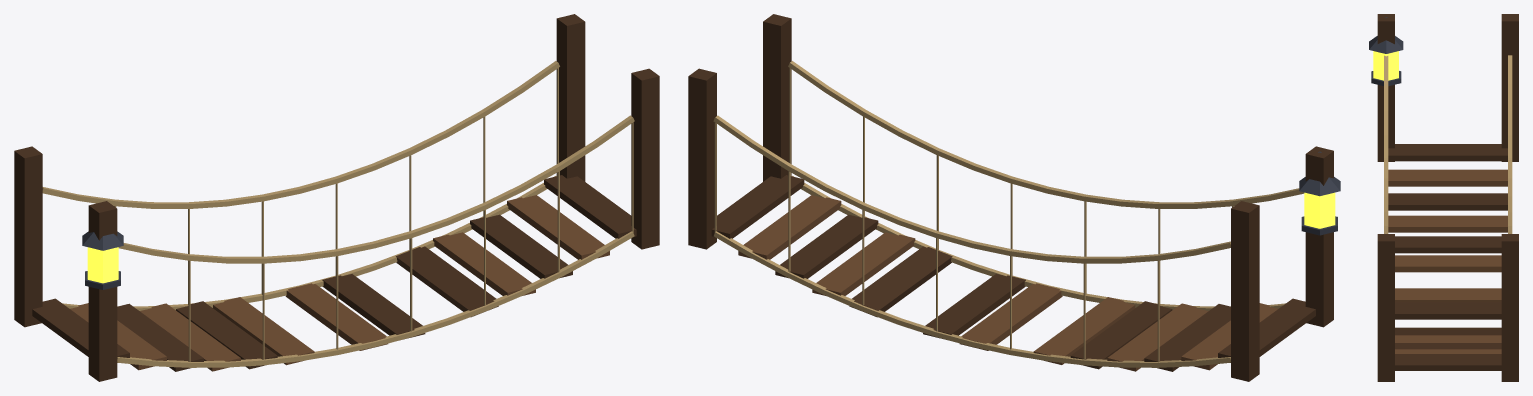
The model's file is Mine_Bridge_Rope.fbx.
3 views of the same model, side by side, from view 1: azimuth 30°, elevation 25°; view 2: azimuth 150°, elevation 25°; view 3: azimuth 270°, elevation 25° (orthographic). The views are drawn at different scales.
Parts seen in each view (by area): view 1: Mine_Bridge_Rope_Body; view 2: Mine_Bridge_Rope_Body; view 3: Mine_Bridge_Rope_Body.
Part boxes in pixels (x1,y1,x2,y2): Mine_Bridge_Rope_Body: (14, 14, 659, 381); Mine_Bridge_Rope_Body: (688, 14, 1340, 381); Mine_Bridge_Rope_Body: (1369, 14, 1518, 381).
Size of the model in its own units: 4.43 by 1.53 by 1.21.
